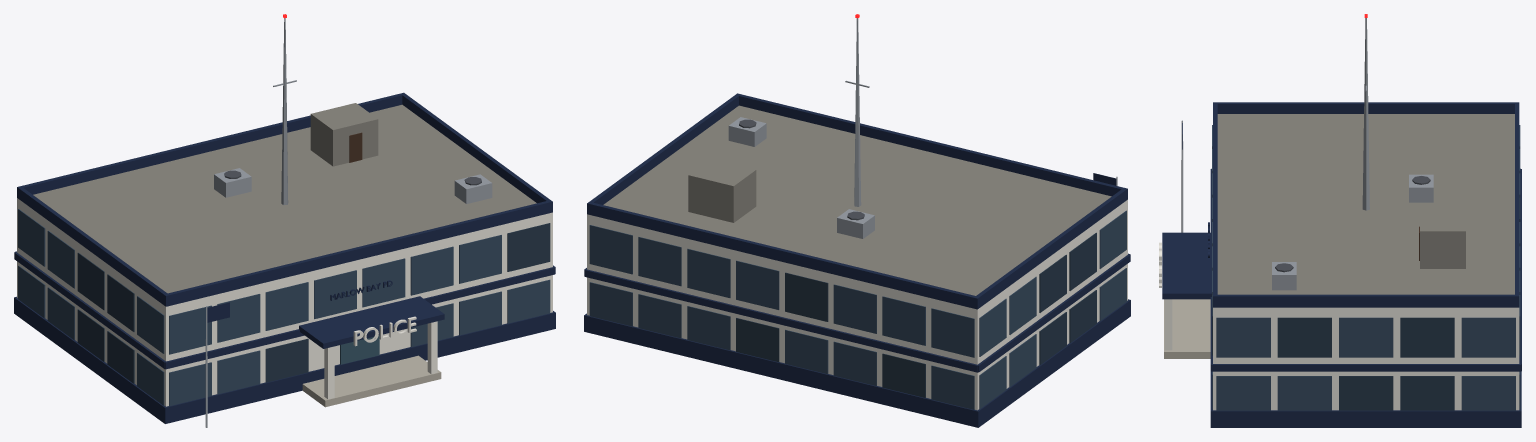
Rendered from police_station.glb.
The picture shows the model from 3 angles, left to right: view 1: azimuth 30°, elevation 25°; view 2: azimuth 150°, elevation 25°; view 3: azimuth 270°, elevation 25°; orthographic projection. The views are drawn at different scales.
Parts seen in each view (by area): view 1: police_station; view 2: police_station; view 3: police_station.
Boxes of the visible parts, bbox=[...] form: police_station: bbox=[14, 14, 555, 427]; police_station: bbox=[584, 14, 1130, 427]; police_station: bbox=[1159, 14, 1521, 427].
Size of what is drawn, in the model's own units: 30.32 by 22.7 by 23.68.
